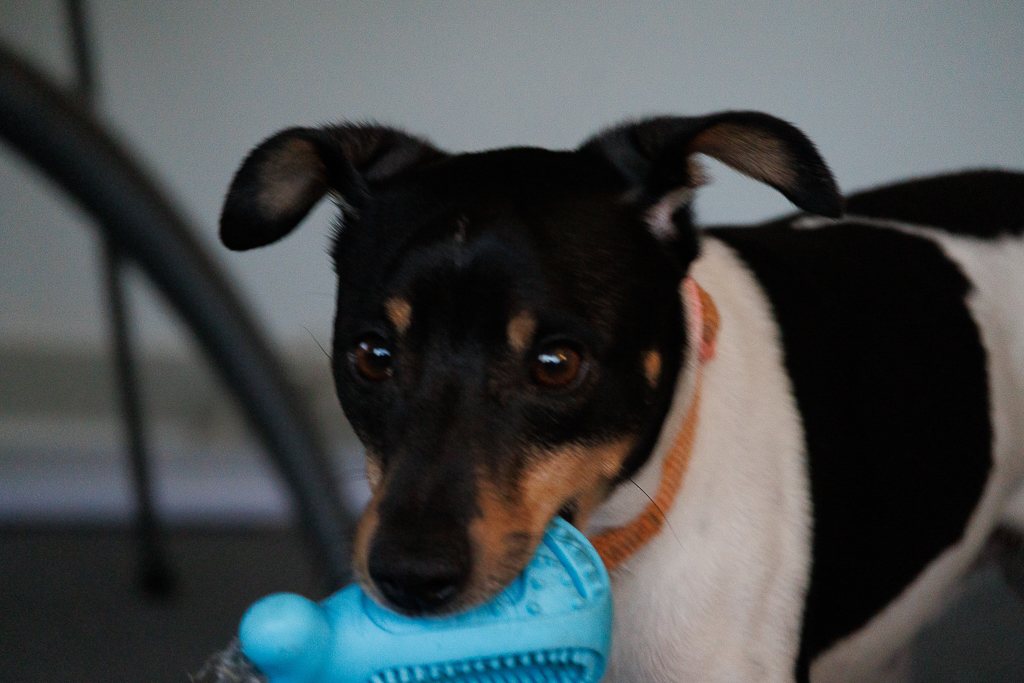Dog: (214, 95, 1024, 683)
